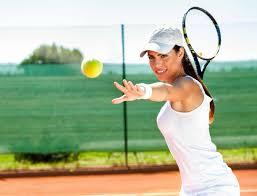elbow: (167, 91, 170, 94)
eye: (161, 54, 169, 59), (148, 57, 156, 61)
hand: (129, 90, 133, 94)
head: (144, 26, 185, 80)
hip: (184, 185, 189, 190), (219, 182, 225, 186)
nose: (156, 64, 161, 68)
player: (115, 25, 240, 196)
shoulder: (184, 86, 189, 89)
tennis ball: (81, 58, 103, 78)
tennis racket: (182, 7, 221, 79)
